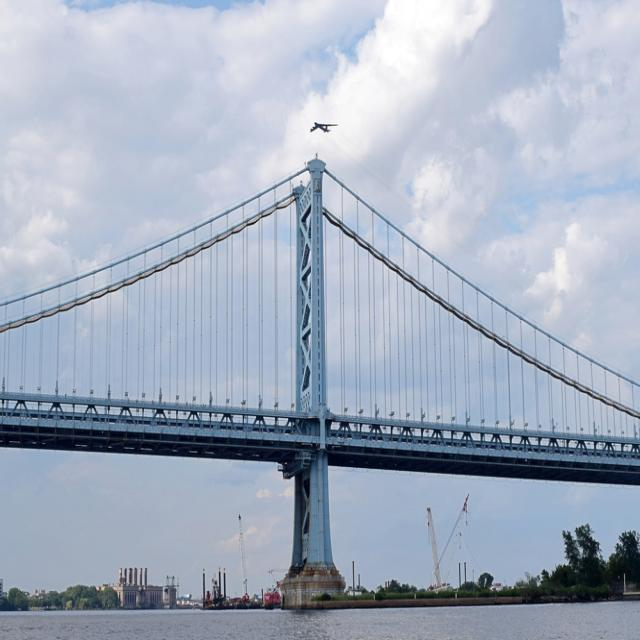MIL_Plane: (319, 121, 329, 134)
